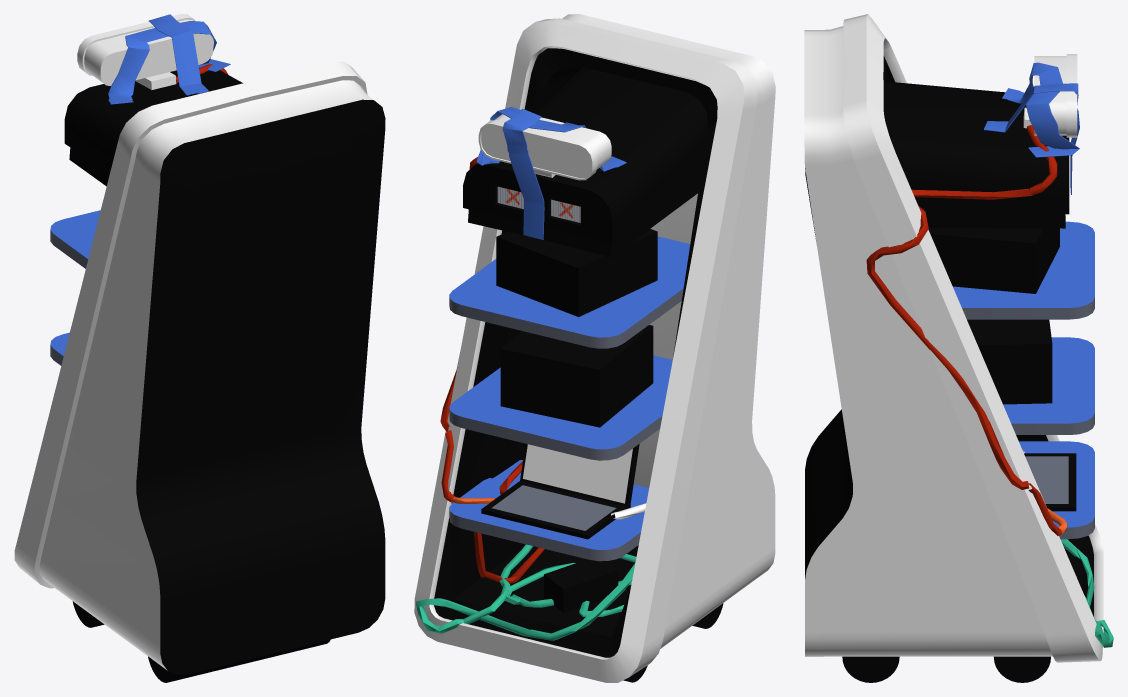
File: AIGUARD.fbx
3 views of the same model, side by side, from view 1: azimuth 30°, elevation 25°; view 2: azimuth 150°, elevation 25°; view 3: azimuth 270°, elevation 25° (orthographic). The views are drawn at different scales.
Parts seen in each view (by area): view 1: Cube; view 2: Cube; view 3: Cube.
Part boxes in pixels (box(x1,y1,x2,y2)): Cube: box(14, 14, 385, 682); Cube: box(414, 14, 775, 682); Cube: box(804, 14, 1113, 682).
Bounding box in the file's own units: 71.17 × 161 × 77.69.
